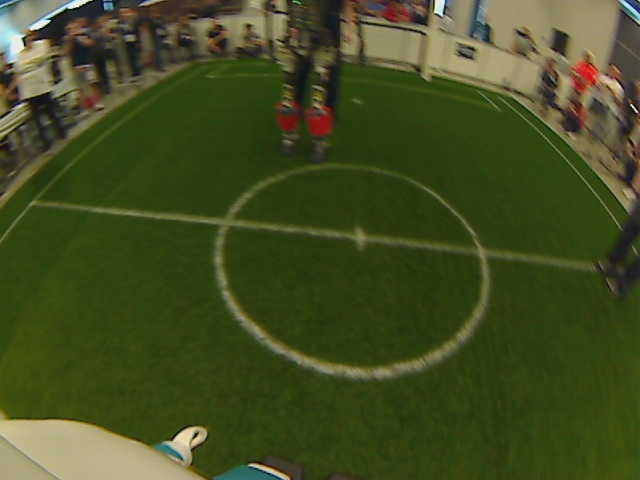goalpost: (411, 64, 441, 92), (262, 44, 283, 66)
robot: (263, 117, 349, 173)
